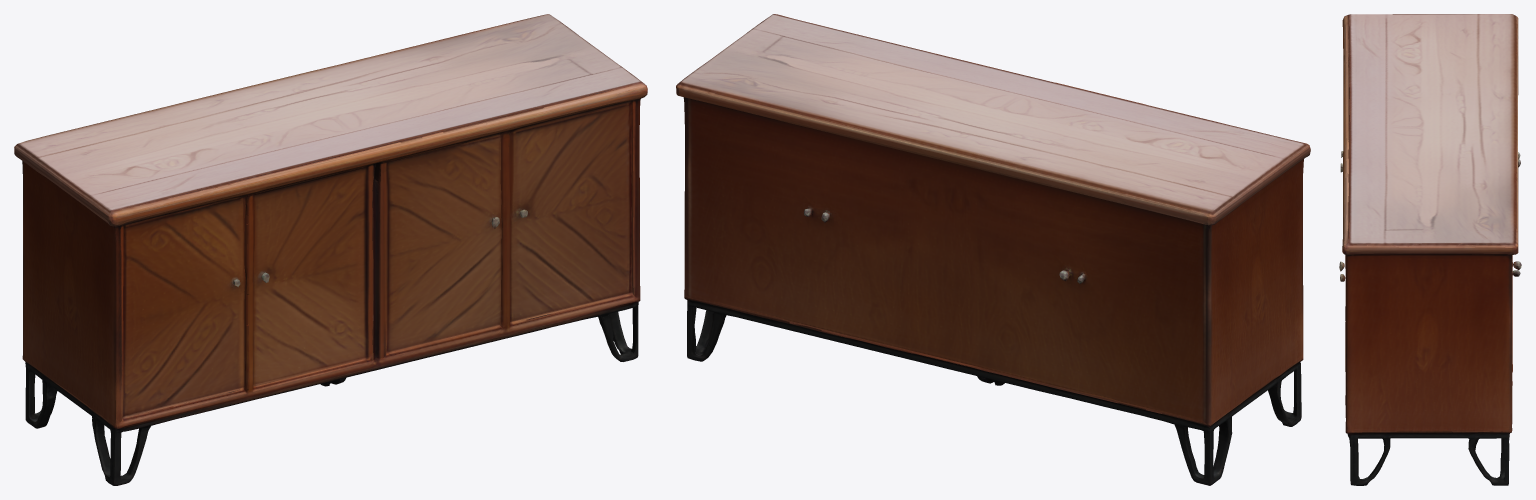
The model's file is Edward Side Board.glb.
3 views of the same model, side by side, from view 1: azimuth 30°, elevation 25°; view 2: azimuth 150°, elevation 25°; view 3: azimuth 270°, elevation 25° (orthographic). The views are drawn at different scales.
Parts seen in each view (by area): view 1: world; view 2: world; view 3: world.
Part boxes in pixels (<box>): world: <box>14,14,647,485</box>; world: <box>676,14,1310,485</box>; world: <box>1339,14,1521,485</box>.
Size of the model in its own units: 1 by 0.4933 by 0.3322.
Materials: 1 (1 with a texture image).
